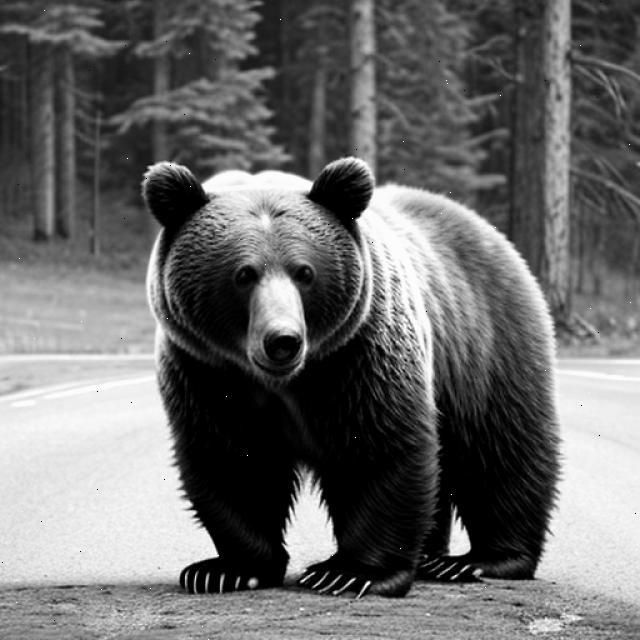bear: (144, 142, 392, 394)
